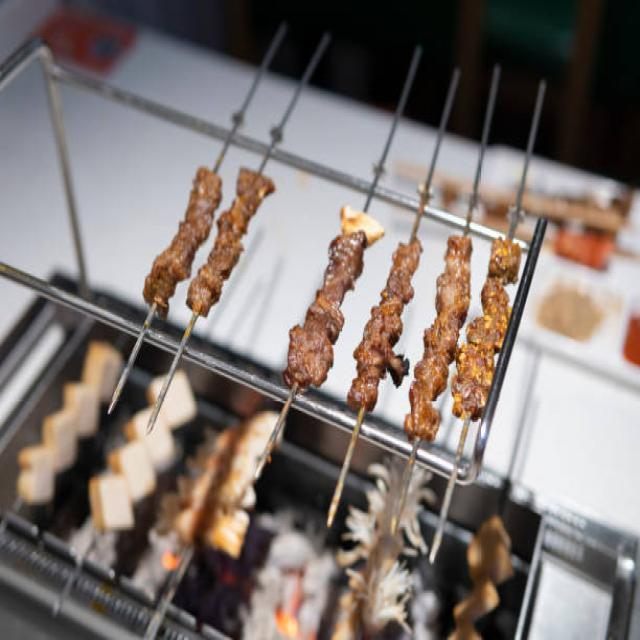Emperan: (13, 0, 639, 640)
